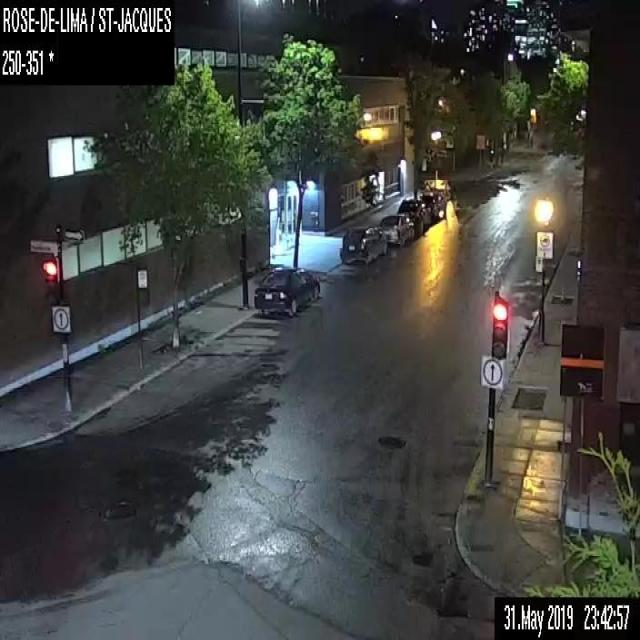construction: (475, 133, 485, 172)
vehicle: (252, 264, 320, 316), (342, 224, 387, 265), (396, 198, 436, 236), (418, 180, 455, 217), (377, 213, 413, 245)
